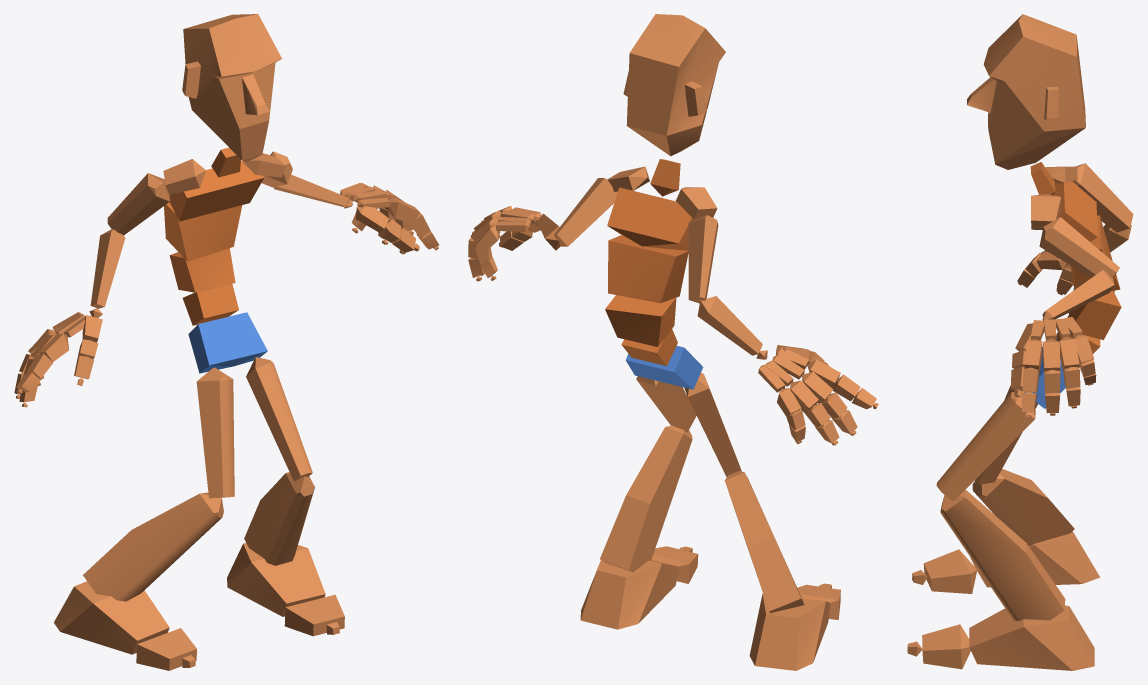
File: prueba11.obj
3 renders of one model, left to right at view 1: azimuth 30°, elevation 25°; view 2: azimuth 150°, elevation 25°; view 3: azimuth 270°, elevation 25°, orthographic. The views are drawn at different scales.
Visible parts, largest first — view 1: BOPED_Head, BOPED_R_leg, BOPED_R_foot, BOPED_R_foot01, BOPED_L_leg, BOPED_R_legup, BOPED_L_legup, Bone01, Bone04, Bone05, Bone03, BOPED_R_arm_upper (+8 smaller); view 2: BOPED_Head, BOPED_L_leg, BOPED_R_foot01, BOPED_R_foot, BOPED_R_leg, Bone04, Bone05, Bone03, BOPED_R_arm_upper, BOPED_R_legup, BOPED_L_arm_upper, Bone01 (+8 smaller); view 3: BOPED_Head, BOPED_L_leg, BOPED_R_foot01, BOPED_R_leg, BOPED_L_legup, BOPED_R_foot, BOPED_L_arm_upper, BOPED_R_foot_toe01, BOPED_R_arm_upper, BOPED_R_foot_toe04, Bone05, Bone03 (+15 smaller).
Boxes of the visible parts, x1=… form: BOPED_Head: x1=182, y1=14, x2=281, y2=161; BOPED_R_leg: x1=83, y1=492, x2=223, y2=601; BOPED_R_foot: x1=54, y1=581, x2=169, y2=654; BOPED_R_foot01: x1=227, y1=543, x2=325, y2=616; BOPED_L_leg: x1=244, y1=472, x2=314, y2=565; BOPED_R_legup: x1=196, y1=367, x2=234, y2=498; BOPED_L_legup: x1=246, y1=357, x2=312, y2=481; Bone01: x1=188, y1=312, x2=267, y2=373; Bone04: x1=164, y1=202, x2=242, y2=261; Bone05: x1=170, y1=160, x2=264, y2=221; Bone03: x1=169, y1=248, x2=235, y2=292; BOPED_R_arm_upper: x1=107, y1=173, x2=169, y2=235; BOPED_Head: x1=623, y1=14, x2=725, y2=156; BOPED_L_leg: x1=600, y1=425, x2=692, y2=572; BOPED_R_foot01: x1=580, y1=560, x2=679, y2=629; BOPED_R_foot: x1=749, y1=593, x2=830, y2=670; BOPED_R_leg: x1=724, y1=471, x2=804, y2=612; Bone04: x1=608, y1=235, x2=688, y2=303; Bone05: x1=607, y1=187, x2=695, y2=250; Bone03: x1=605, y1=295, x2=676, y2=346; BOPED_R_arm_upper: x1=688, y1=215, x2=718, y2=303; BOPED_R_legup: x1=684, y1=372, x2=741, y2=476; BOPED_L_arm_upper: x1=554, y1=178, x2=617, y2=246; Bone01: x1=625, y1=346, x2=703, y2=389; BOPED_Head: x1=967, y1=14, x2=1085, y2=169; BOPED_L_leg: x1=940, y1=490, x2=1065, y2=620; BOPED_R_foot01: x1=969, y1=605, x2=1094, y2=670; BOPED_R_leg: x1=972, y1=469, x2=1074, y2=545; BOPED_L_legup: x1=936, y1=392, x2=1035, y2=500; BOPED_R_foot: x1=970, y1=531, x2=1100, y2=587; BOPED_L_arm_upper: x1=1039, y1=217, x2=1119, y2=277; BOPED_R_foot_toe01: x1=923, y1=549, x2=977, y2=593; BOPED_R_arm_upper: x1=1072, y1=163, x2=1133, y2=232; BOPED_R_foot_toe04: x1=922, y1=624, x2=970, y2=669; Bone05: x1=1054, y1=181, x2=1097, y2=241; Bone03: x1=1069, y1=288, x2=1121, y2=339.
Size of the model in its own units: 130 by 178 by 59.62.
